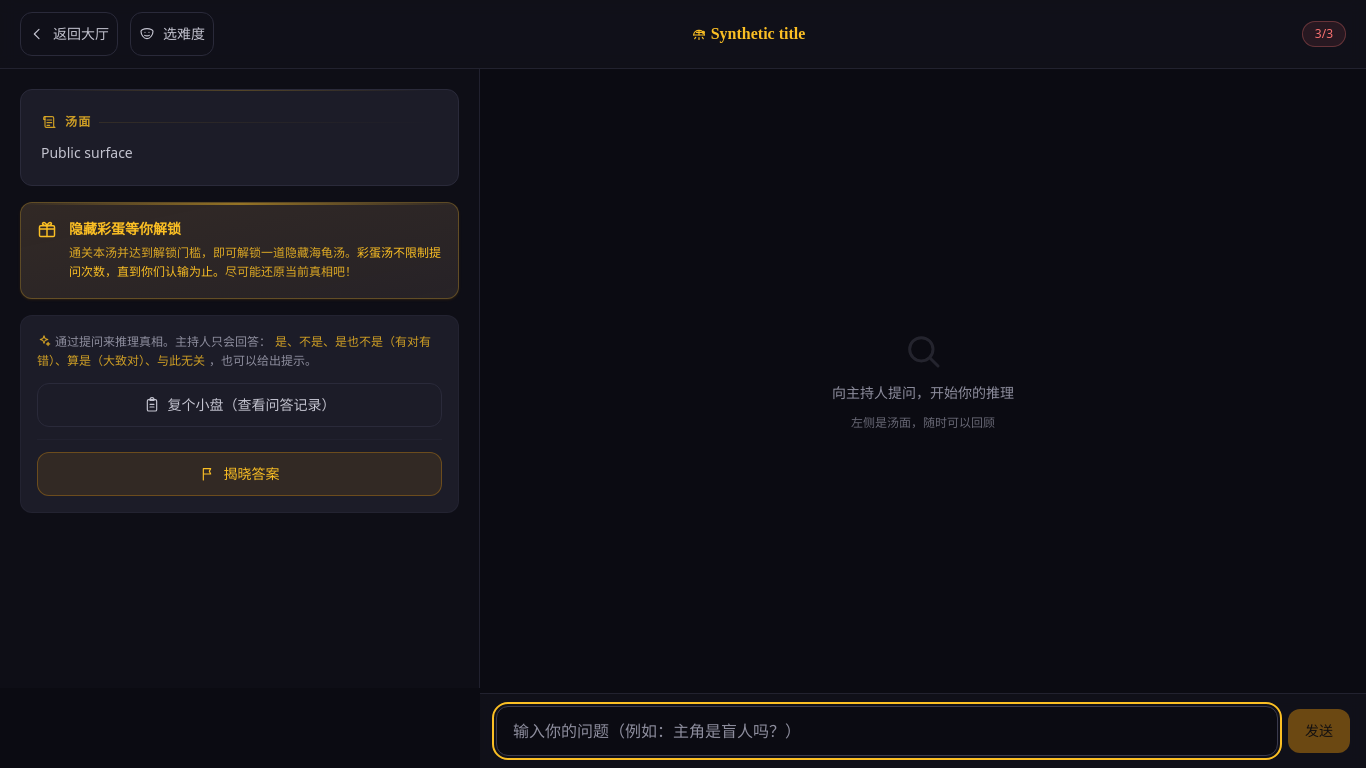
actual game win still celebrates with zero fact bar and separate plot100
Expected: the text "Public surface" is shown, [41, 143, 133, 162]
In the field named "向主持人提问": (887, 731) [496, 706, 1278, 756], type "Synthetic win condition?"
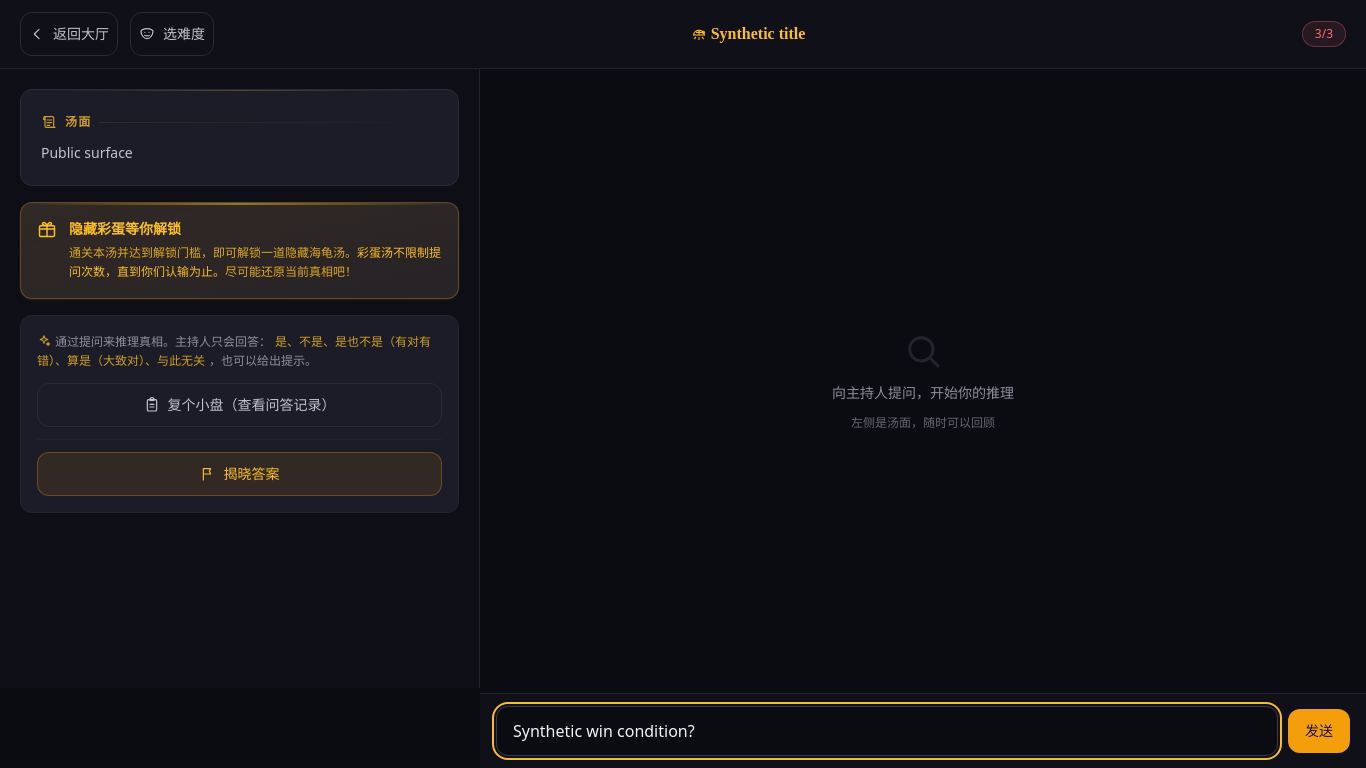
Click the button "发送": (1319, 731) [1288, 709, 1350, 753]
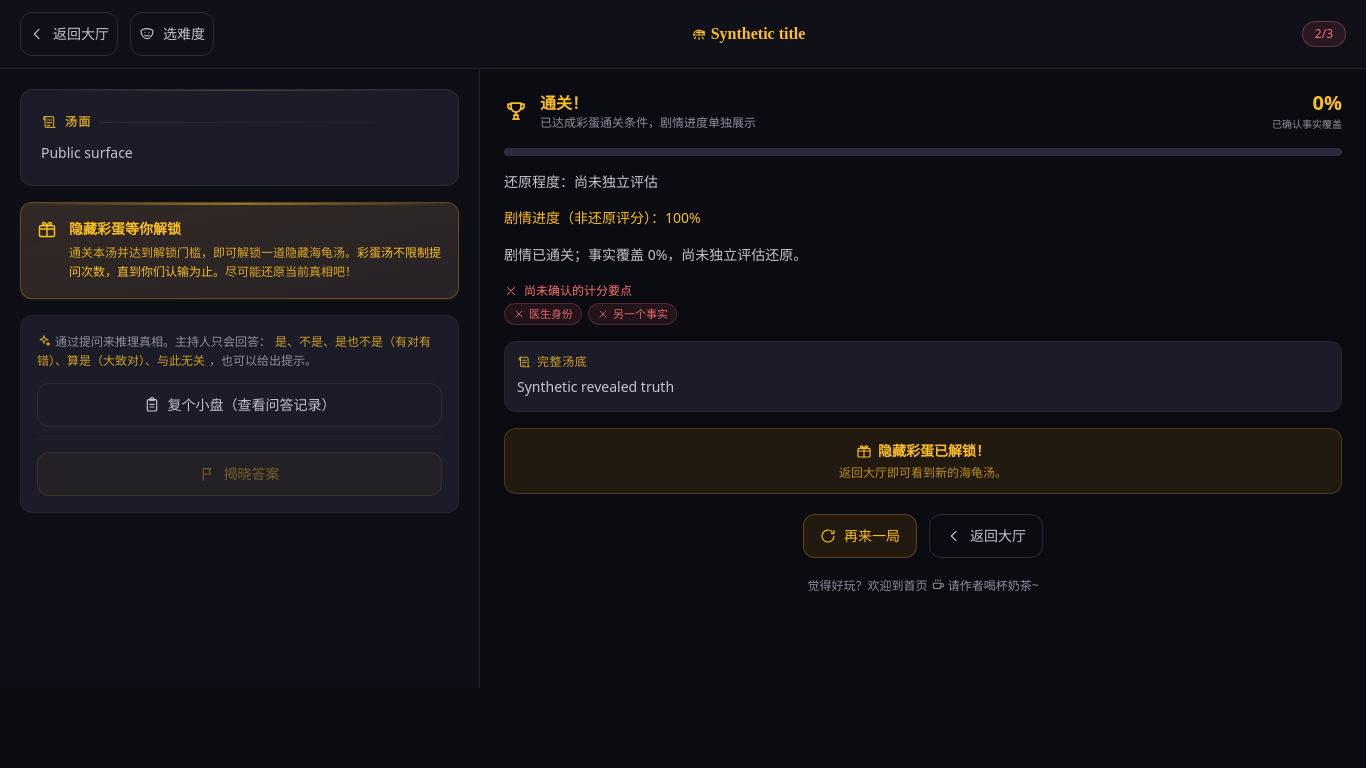
Expected: the text "通关！" is shown, [540, 92, 588, 114]
Expected: the text "剧情进度（非还原评分）：100%" is shown, [504, 208, 701, 227]
